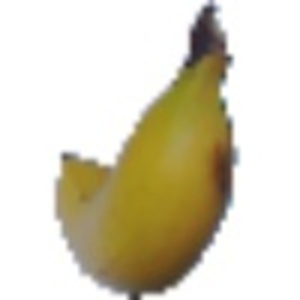banana: (54, 57, 239, 295)
